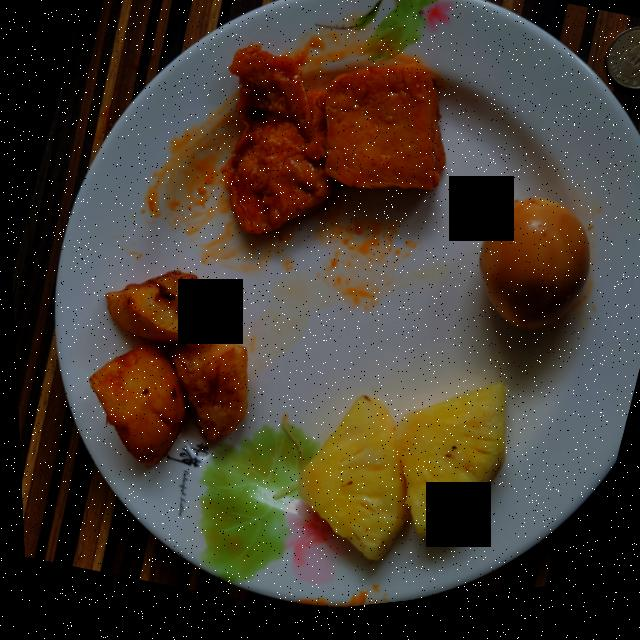coin: (605, 39, 640, 102)
creamy tofu: (219, 48, 443, 238)
fried potato: (85, 273, 244, 469)
pineapple: (292, 391, 501, 567)
soy egg: (476, 208, 587, 340)
